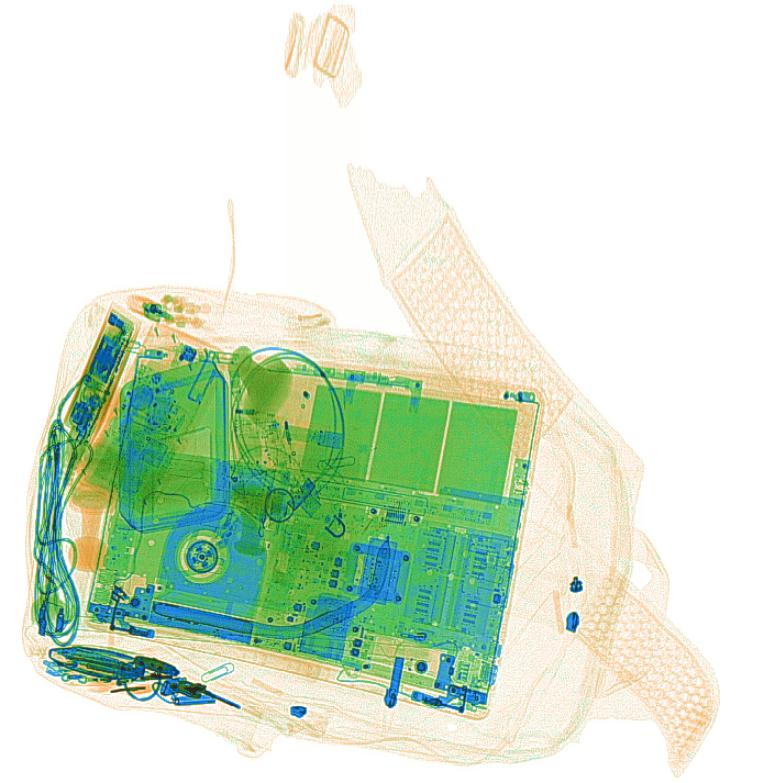USBFlashDisk: (275, 419, 344, 451)
lighter: (39, 657, 135, 688), (122, 293, 175, 325)
seal: (66, 444, 125, 573), (224, 344, 294, 430), (225, 483, 285, 556)
